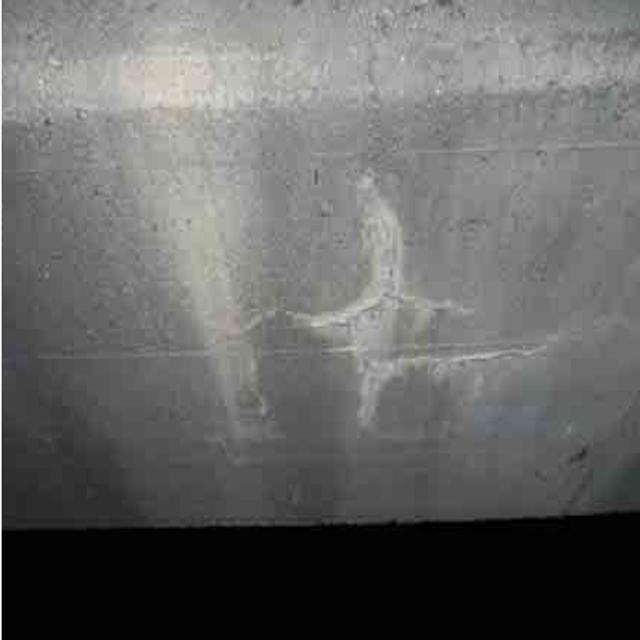freelime: (146, 47, 270, 433), (330, 176, 466, 420)
